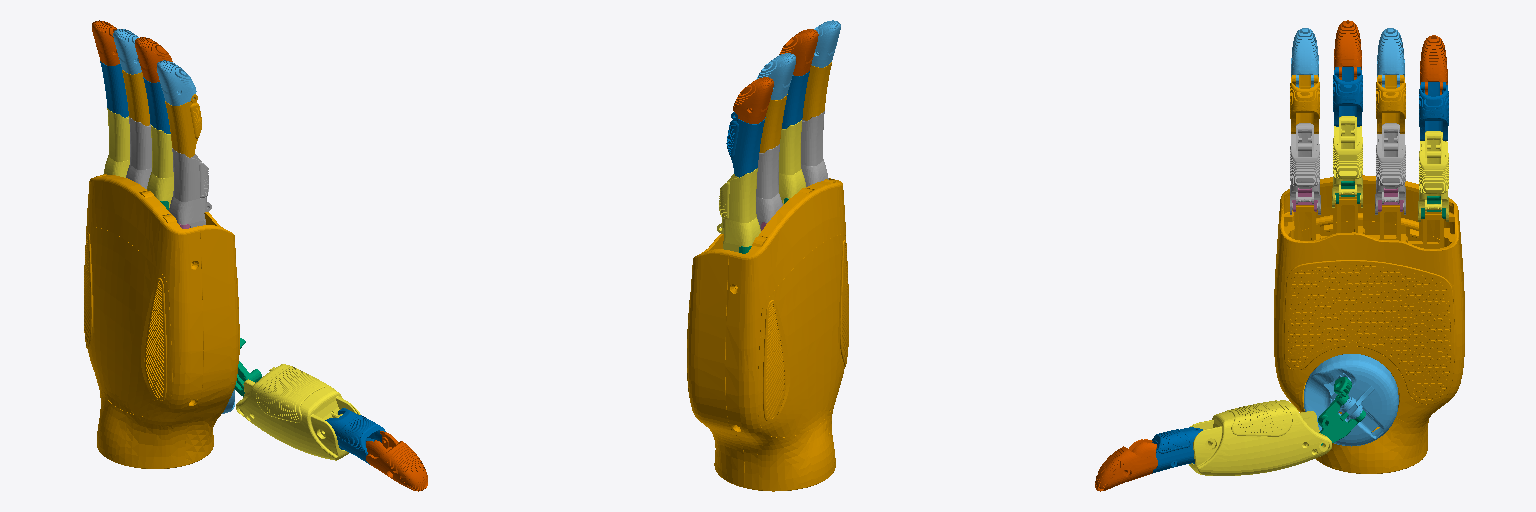
robot.urdf — hand:
<?xml version='1.0' encoding='utf-8'?>
<robot name="hand">
  <link name="lh_hand_base_link">
    <inertial>
      <origin xyz="-0.000986417037198788 0.000268049028294054 0.0773798470852122" rpy="0 0 0" />
      <mass value="0.110373495507463" />
      <inertia ixx="0.000264402778830212" ixy="4.59263483005334e-07" ixz="1.32798258678817e-06" iyy="0.000159680177760236" iyz="-4.78660406501498e-06" izz="0.000118075546031988" />
    </inertial>
    <visual>
      <origin xyz="0 0 0" rpy="0 0 0" />
      <geometry><mesh filename="meshes/visual/lh_hand_base_link_vis.obj" /></geometry>
    </visual>
    <collision>
      <origin xyz="0 0 0" rpy="0 0 0" />
      <geometry><mesh filename="meshes/visual/lh_hand_base_link_vis.obj" /></geometry>
    </collision>
  </link>
  <link name="lh_thumb_metacarpals_base1">
    <inertial>
      <origin xyz="0.0115155126192006 0.00398068846976699 0.000272888250745694" rpy="0 0 0" />
      <mass value="0.0160351802817401" />
      <inertia ixx="4.043875385429e-06" ixy="1.31113365770736e-07" ixz="-7.54220071752833e-09" iyy="2.42762975209742e-06" iyz="-1.4815076502312e-07" izz="2.08582778122043e-06" />
    </inertial>
    <visual>
      <origin xyz="0 0 0" rpy="0 0 0" />
      <geometry><mesh filename="meshes/visual/lh_thumb_metacarpals_base1_vis.obj" /></geometry>
    </visual>
    <collision>
      <origin xyz="0 0 0" rpy="0 0 0" />
      <geometry><mesh filename="meshes/visual/lh_thumb_metacarpals_base1_vis.obj" /></geometry>
    </collision>
  </link>
  <link name="lh_thumb_metacarpals_base2">
    <inertial>
      <origin xyz="0.00286714610220221 -0.0061572653424441 0.00472605265322379" rpy="0 0 0" />
      <mass value="0.00183264554882498" />
      <inertia ixx="2.1115156606816047e-07" ixy="-4.9133152227129e-08" ixz="-1.35746007921721e-08" iyy="9.889251334189997e-08" iyz="4.75450167610941e-08" izz="1.8061586053999446e-07" />
    </inertial>
    <visual>
      <origin xyz="0 0 0" rpy="0 0 0" />
      <geometry><mesh filename="meshes/visual/lh_thumb_metacarpals_base2_vis.obj" /></geometry>
    </visual>
    <collision>
      <origin xyz="0 0 0" rpy="0 0 0" />
      <geometry><mesh filename="meshes/visual/lh_thumb_metacarpals_base2_vis.obj" /></geometry>
    </collision>
  </link>
  <link name="lh_thumb_metacarpals">
    <inertial>
      <origin xyz="0.00670657874489922 8.60758971228653e-05 0.0331412930049483" rpy="0 0 0" />
      <mass value="0.0287160359417969" />
      <inertia ixx="1.13355944686632e-05" ixy="-1.18725063259997e-08" ixz="5.09011416528365e-08" iyy="1.3528651001113e-05" iyz="2.41236037965108e-08" izz="3.37809997040935e-06" />
    </inertial>
    <visual>
      <origin xyz="0 0 0" rpy="0 0 0" />
      <geometry><mesh filename="meshes/visual/lh_thumb_metacarpals_vis.obj" /></geometry>
    </visual>
    <collision>
      <origin xyz="0 0 0" rpy="0 0 0" />
      <geometry><mesh filename="meshes/visual/lh_thumb_metacarpals_vis.obj" /></geometry>
    </collision>
  </link>
  <link name="lh_thumb_proximal">
    <inertial>
      <origin xyz="-0.00268734410969529 0.000568244522388137 0.0118501723044777" rpy="0 0 0" />
      <mass value="0.00549015507433734" />
      <inertia ixx="4.78372237673962e-07" ixy="4.56375652569348e-11" ixz="5.41461160604729e-08" iyy="6.23208954846975e-07" iyz="5.1129105291147e-09" izz="2.34934736039565e-07" />
    </inertial>
    <visual>
      <origin xyz="0 0 0" rpy="0 0 0" />
      <geometry><mesh filename="meshes/visual/lh_thumb_proximal_vis.obj" /></geometry>
    </visual>
    <collision>
      <origin xyz="0 0 0" rpy="0 0 0" />
      <geometry><mesh filename="meshes/visual/lh_thumb_proximal_vis.obj" /></geometry>
    </collision>
  </link>
  <link name="lh_thumb_distal">
    <inertial>
      <origin xyz="-0.000710021799050622 -0.00267575921172081 0.0124762660846746" rpy="0 0 0" />
      <mass value="0.00382046638843239" />
      <inertia ixx="2.12120816159448e-07" ixy="-2.9588372102787e-09" ixz="-7.35950751454791e-08" iyy="2.67878295781821e-07" iyz="6.04616706384983e-09" izz="1.24571609570411e-07" />
    </inertial>
    <visual>
      <origin xyz="0 0 0" rpy="0 0 0" />
      <geometry><mesh filename="meshes/visual/lh_thumb_distal_vis.obj" /></geometry>
    </visual>
    <collision>
      <origin xyz="0 0 0" rpy="0 0 0" />
      <geometry><mesh filename="meshes/visual/lh_thumb_distal_vis.obj" /></geometry>
    </collision>
  </link>
  <link name="lh_index_metacarpals">
    <inertial>
      <origin xyz="-0.00794299653637993 -2.93673969475883e-07 0.00220106027330236" rpy="0 0 0" />
      <mass value="0.000895516429792169" />
      <inertia ixx="3.46279728013563e-08" ixy="-3.91962517308058e-13" ixz="5.91029152662012e-09" iyy="2.85435471088518e-08" iyz="-5.30377507775974e-13" izz="4.38102133125935e-08" />
    </inertial>
    <visual>
      <origin xyz="0 0 0" rpy="0 0 0" />
      <geometry><mesh filename="meshes/visual/lh_index_metacarpals_vis.obj" /></geometry>
    </visual>
    <collision>
      <origin xyz="0 0 0" rpy="0 0 0" />
      <geometry><mesh filename="meshes/visual/lh_index_metacarpals_vis.obj" /></geometry>
    </collision>
  </link>
  <link name="lh_index_proximal">
    <inertial>
      <origin xyz="-0.00114185484694667 3.47315751996757e-05 0.0228928405204552" rpy="0 0 0" />
      <mass value="0.00450921353606138" />
      <inertia ixx="6.66673080974796e-07" ixy="-1.07185172336921e-11" ixz="-2.53143396223457e-08" iyy="6.74195867168963e-07" iyz="-1.59054321114837e-10" izz="1.3575909170439e-07" />
    </inertial>
    <visual>
      <origin xyz="0 0 0" rpy="0 0 0" />
      <geometry><mesh filename="meshes/visual/lh_index_proximal_vis.obj" /></geometry>
    </visual>
    <collision>
      <origin xyz="0 0 0" rpy="0 0 0" />
      <geometry><mesh filename="meshes/visual/lh_index_proximal_vis.obj" /></geometry>
    </collision>
  </link>
  <link name="lh_index_middle">
    <inertial>
      <origin xyz="-0.000206991936024691 2.60617060293677e-06 0.0167065328961797" rpy="0 0 0" />
      <mass value="0.00237827499847615" />
      <inertia ixx="2.2953872847051e-07" ixy="2.23609392315326e-12" ixz="-1.4734008024399e-08" iyy="1.76761332719485e-07" iyz="1.15917246584962e-11" izz="9.62798051827835e-08" />
    </inertial>
    <visual>
      <origin xyz="0 0 0" rpy="0 0 0" />
      <geometry><mesh filename="meshes/visual/lh_index_middle_vis.obj" /></geometry>
    </visual>
    <collision>
      <origin xyz="0 0 0" rpy="0 0 0" />
      <geometry><mesh filename="meshes/visual/lh_index_middle_vis.obj" /></geometry>
    </collision>
  </link>
  <link name="lh_index_distal">
    <inertial>
      <origin xyz="-0.00816246517948334 2.27058913663258e-05 0.00811806505013066" rpy="0 0 0" />
      <mass value="0.00334170259772608" />
      <inertia ixx="1.59570744991572e-07" ixy="1.51458653099843e-10" ixz="-5.9429168549018e-08" iyy="1.78095631426193e-07" iyz="-1.24842727205631e-10" izz="1.34141383450165e-07" />
    </inertial>
    <visual>
      <origin xyz="0 0 0" rpy="0 0 0" />
      <geometry><mesh filename="meshes/visual/lh_index_distal_vis.obj" /></geometry>
    </visual>
    <collision>
      <origin xyz="0 0 0" rpy="0 0 0" />
      <geometry><mesh filename="meshes/visual/lh_index_distal_vis.obj" /></geometry>
    </collision>
  </link>
  <link name="lh_middle_metacarpals">
    <inertial>
      <origin xyz="-0.00794299618184406 -2.93006659768391e-07 0.00220106329585604" rpy="0 0 0" />
      <mass value="0.000895516947435045" />
      <inertia ixx="3.46279958583857e-08" ixy="-3.91785866285381e-13" ixz="5.91029262290692e-09" iyy="2.85435605322585e-08" iyz="-5.27457529869591e-13" izz="4.38102218629515e-08" />
    </inertial>
    <visual>
      <origin xyz="0 0 0" rpy="0 0 0" />
      <geometry><mesh filename="meshes/visual/lh_middle_metacarpals_vis.obj" /></geometry>
    </visual>
    <collision>
      <origin xyz="0 0 0" rpy="0 0 0" />
      <geometry><mesh filename="meshes/visual/lh_middle_metacarpals_vis.obj" /></geometry>
    </collision>
  </link>
  <link name="lh_middle_proximal">
    <inertial>
      <origin xyz="-0.00114185484818909 3.47315748623067e-05 0.0228928405191574" rpy="0 0 0" />
      <mass value="0.00450921353536659" />
      <inertia ixx="6.6667308094129e-07" ixy="-1.07185191777588e-11" ixz="-2.53143396278864e-08" iyy="6.74195867139795e-07" iyz="-1.59054330697635e-10" izz="1.3575909169764e-07" />
    </inertial>
    <visual>
      <origin xyz="0 0 0" rpy="0 0 0" />
      <geometry><mesh filename="meshes/visual/lh_middle_proximal_vis.obj" /></geometry>
    </visual>
    <collision>
      <origin xyz="0 0 0" rpy="0 0 0" />
      <geometry><mesh filename="meshes/visual/lh_middle_proximal_vis.obj" /></geometry>
    </collision>
  </link>
  <link name="lh_middle_middle">
    <inertial>
      <origin xyz="-0.000206991893084203 2.60624978909441e-06 0.0167065331356697" rpy="0 0 0" />
      <mass value="0.00237827502274046" />
      <inertia ixx="2.29538732170979e-07" ixy="2.23722006830829e-12" ixz="-1.47340061868536e-08" iyy="1.7676133625496e-07" iyz="1.15938574397121e-11" izz="9.62798057458164e-08" />
    </inertial>
    <visual>
      <origin xyz="0 0 0" rpy="0 0 0" />
      <geometry><mesh filename="meshes/visual/lh_middle_middle_vis.obj" /></geometry>
    </visual>
    <collision>
      <origin xyz="0 0 0" rpy="0 0 0" />
      <geometry><mesh filename="meshes/visual/lh_middle_middle_vis.obj" /></geometry>
    </collision>
  </link>
  <link name="lh_middle_distal">
    <inertial>
      <origin xyz="-0.00816246584707385 2.27058557035753e-05 0.00811806604834034" rpy="0 0 0" />
      <mass value="0.00334170288968694" />
      <inertia ixx="1.59570753478215e-07" ixy="1.51460233550071e-10" ixz="-5.94291827952622e-08" iyy="1.78095663702073e-07" iyz="-1.24843061161549e-10" izz="1.34141410190336e-07" />
    </inertial>
    <visual>
      <origin xyz="0 0 0" rpy="0 0 0" />
      <geometry><mesh filename="meshes/visual/lh_middle_distal_vis.obj" /></geometry>
    </visual>
    <collision>
      <origin xyz="0 0 0" rpy="0 0 0" />
      <geometry><mesh filename="meshes/visual/lh_middle_distal_vis.obj" /></geometry>
    </collision>
  </link>
  <link name="lh_ring_metacarpals">
    <inertial>
      <origin xyz="-0.00794299637971868 -2.94513098575422e-07 0.00220106138372037" rpy="0 0 0" />
      <mass value="0.000895516612684195" />
      <inertia ixx="3.46279813761428e-08" ixy="-3.92590701616938e-13" ixz="5.91029201975386e-09" iyy="2.854355219638e-08" iyz="-5.34642787239736e-13" izz="4.38102164225122e-08" />
    </inertial>
    <visual>
      <origin xyz="0 0 0" rpy="0 0 0" />
      <geometry><mesh filename="meshes/visual/lh_ring_metacarpals_vis.obj" /></geometry>
    </visual>
    <collision>
      <origin xyz="0 0 0" rpy="0 0 0" />
      <geometry><mesh filename="meshes/visual/lh_ring_metacarpals_vis.obj" /></geometry>
    </collision>
  </link>
  <link name="lh_ring_proximal">
    <inertial>
      <origin xyz="-0.00114185484356009 3.47315809493265e-05 0.0228928405060199" rpy="0 0 0" />
      <mass value="0.00450921353946778" />
      <inertia ixx="6.66673081759646e-07" ixy="-1.07184694208142e-11" ixz="-2.53143399406658e-08" iyy="6.74195868060947e-07" iyz="-1.59054446512071e-10" izz="1.3575909184966e-07" />
    </inertial>
    <visual>
      <origin xyz="0 0 0" rpy="0 0 0" />
      <geometry><mesh filename="meshes/visual/lh_ring_proximal_vis.obj" /></geometry>
    </visual>
    <collision>
      <origin xyz="0 0 0" rpy="0 0 0" />
      <geometry><mesh filename="meshes/visual/lh_ring_proximal_vis.obj" /></geometry>
    </collision>
  </link>
  <link name="lh_ring_middle">
    <inertial>
      <origin xyz="-0.00020699321531438 2.60746916563859e-06 0.0167065326651803" rpy="0 0 0" />
      <mass value="0.00237827433282015" />
      <inertia ixx="2.29538714144179e-07" ixy="2.25259718797087e-12" ixz="-1.47340121880382e-08" iyy="1.76761312824203e-07" iyz="1.15994674932479e-11" izz="9.62797743780677e-08" />
    </inertial>
    <visual>
      <origin xyz="0 0 0" rpy="0 0 0" />
      <geometry><mesh filename="meshes/visual/lh_ring_middle_vis.obj" /></geometry>
    </visual>
    <collision>
      <origin xyz="0 0 0" rpy="0 0 0" />
      <geometry><mesh filename="meshes/visual/lh_ring_middle_vis.obj" /></geometry>
    </collision>
  </link>
  <link name="lh_ring_distal">
    <inertial>
      <origin xyz="-0.0081624655153107 2.27057324615476e-05 0.00811806561376854" rpy="0 0 0" />
      <mass value="0.00334170280386792" />
      <inertia ixx="1.59570757957895e-07" ixy="1.51461030930522e-10" ixz="-5.94291750853635e-08" iyy="1.78095650648522e-07" iyz="-1.2484716714453e-10" izz="1.34141394018405e-07" />
    </inertial>
    <visual>
      <origin xyz="0 0 0" rpy="0 0 0" />
      <geometry><mesh filename="meshes/visual/lh_ring_distal_vis.obj" /></geometry>
    </visual>
    <collision>
      <origin xyz="0 0 0" rpy="0 0 0" />
      <geometry><mesh filename="meshes/visual/lh_ring_distal_vis.obj" /></geometry>
    </collision>
  </link>
  <link name="lh_pinky_metacarpals">
    <inertial>
      <origin xyz="-0.00794299617469867 -2.9300686296696e-07 0.00220106329602079" rpy="0 0 0" />
      <mass value="0.000895516947513541" />
      <inertia ixx="3.46279958591138e-08" ixy="-3.91785473098584e-13" ixz="5.91029262259818e-09" iyy="2.85435605328821e-08" iyz="-5.27457876763101e-13" izz="4.38102218637476e-08" />
    </inertial>
    <visual>
      <origin xyz="0 0 0" rpy="0 0 0" />
      <geometry><mesh filename="meshes/visual/lh_pinky_metacarpals_vis.obj" /></geometry>
    </visual>
    <collision>
      <origin xyz="0 0 0" rpy="0 0 0" />
      <geometry><mesh filename="meshes/visual/lh_pinky_metacarpals_vis.obj" /></geometry>
    </collision>
  </link>
  <link name="lh_pinky_proximal">
    <inertial>
      <origin xyz="-0.00114185484350746 3.47315809787474e-05 0.0228928405060759" rpy="0 0 0" />
      <mass value="0.00450921353949741" />
      <inertia ixx="6.66673081761478e-07" ixy="-1.07184692555283e-11" ixz="-2.53143399404374e-08" iyy="6.74195868062215e-07" iyz="-1.59054445649156e-10" izz="1.35759091850319e-07" />
    </inertial>
    <visual>
      <origin xyz="0 0 0" rpy="0 0 0" />
      <geometry><mesh filename="meshes/visual/lh_pinky_proximal_vis.obj" /></geometry>
    </visual>
    <collision>
      <origin xyz="0 0 0" rpy="0 0 0" />
      <geometry><mesh filename="meshes/visual/lh_pinky_proximal_vis.obj" /></geometry>
    </collision>
  </link>
  <link name="lh_pinky_middle">
    <inertial>
      <origin xyz="-0.000206993248553502 2.60748984004522e-06 0.0167065326828462" rpy="0 0 0" />
      <mass value="0.00237827431921004" />
      <inertia ixx="2.29538713829186e-07" ixy="2.25292379523651e-12" ixz="-1.47340119230773e-08" iyy="1.76761312133621e-07" iyz="1.15993142153177e-11" izz="9.62797736254209e-08" />
    </inertial>
    <visual>
      <origin xyz="0 0 0" rpy="0 0 0" />
      <geometry><mesh filename="meshes/visual/lh_pinky_middle_vis.obj" /></geometry>
    </visual>
    <collision>
      <origin xyz="0 0 0" rpy="0 0 0" />
      <geometry><mesh filename="meshes/visual/lh_pinky_middle_vis.obj" /></geometry>
    </collision>
  </link>
  <link name="lh_pinky_distal">
    <inertial>
      <origin xyz="-0.00816246615274486 2.27054189396725e-05 0.00811806634481432" rpy="0 0 0" />
      <mass value="0.00334170283969146" />
      <inertia ixx="1.59570758932551e-07" ixy="1.51458416419677e-10" ixz="-5.94291815262966e-08" iyy="1.7809566305509e-07" iyz="-1.24846982879422e-10" izz="1.34141398854287e-07" />
    </inertial>
    <visual>
      <origin xyz="0 0 0" rpy="0 0 0" />
      <geometry><mesh filename="meshes/visual/lh_pinky_distal_vis.obj" /></geometry>
    </visual>
    <collision>
      <origin xyz="0 0 0" rpy="0 0 0" />
      <geometry><mesh filename="meshes/visual/lh_pinky_distal_vis.obj" /></geometry>
    </collision>
  </link>
  <joint name="lh_thumb_cmc_roll" type="revolute">
    <origin xyz="0.01916 -0.01 0.0436" rpy="0 0 0" />
    <parent link="lh_hand_base_link" />
    <child link="lh_thumb_metacarpals_base1" />
    <axis xyz="-1 0 0" />
    <limit lower="0" upper="1.309" effort="100" velocity="1" />
  </joint>
  <joint name="lh_thumb_cmc_yaw" type="revolute">
    <origin xyz="0.019845 0 0" rpy="0.77165 0 0" />
    <parent link="lh_thumb_metacarpals_base1" />
    <child link="lh_thumb_metacarpals_base2" />
    <axis xyz="0 0 1" />
    <limit lower="0" upper="1.5882" effort="100" velocity="1" />
  </joint>
  <joint name="lh_thumb_cmc_pitch" type="revolute">
    <origin xyz="0.0088218 -0.024245 0.0005" rpy="0 -0.91 1.9199" />
    <parent link="lh_thumb_metacarpals_base2" />
    <child link="lh_thumb_metacarpals" />
    <axis xyz="0 1 0" />
    <limit lower="0" upper="0.7854" effort="100" velocity="1" />
  </joint>
  <joint name="lh_thumb_mcp" type="revolute">
    <origin xyz="0.0127018248047608 0 0.0627256157349894" rpy="0 0 0" />
    <parent link="lh_thumb_metacarpals" />
    <child link="lh_thumb_proximal" />
    <axis xyz="0 1 0" />
    <limit lower="0" upper="1.2217" effort="100" velocity="1" />
  </joint>
  <joint name="lh_thumb_dip" type="revolute">
    <origin xyz="-0.00483652209209624 0 0.0342226492098615" rpy="0 0 0" />
    <parent link="lh_thumb_proximal" />
    <child link="lh_thumb_distal" />
    <axis xyz="0 1 0" />
    <limit lower="0" upper="1.2392" effort="100" velocity="1" />
    <mimic joint="lh_thumb_mcp" multiplier="1.0142" offset="0" />
  </joint>
  <joint name="lh_index_mcp_roll" type="revolute">
    <origin xyz="0.0038 -0.03525 0.1481" rpy="0 0 0" />
    <parent link="lh_hand_base_link" />
    <child link="lh_index_metacarpals" />
    <axis xyz="-1 0 0" />
    <limit lower="-0.2269" upper="0.2269" effort="100" velocity="1" />
  </joint>
  <joint name="lh_index_mcp_pitch" type="revolute">
    <origin xyz="-0.0021302 0 0" rpy="0 0 0" />
    <parent link="lh_index_metacarpals" />
    <child link="lh_index_proximal" />
    <axis xyz="0 1 0" />
    <limit lower="0" upper="1.2217" effort="100" velocity="1" />
  </joint>
  <joint name="lh_index_pip" type="revolute">
    <origin xyz="-0.0041946 0 0.044819" rpy="0 0 0" />
    <parent link="lh_index_proximal" />
    <child link="lh_index_middle" />
    <axis xyz="0 1 0" />
    <limit lower="0" upper="1.7279" effort="100" velocity="1" />
  </joint>
  <joint name="lh_index_dip" type="revolute">
    <origin xyz="0.0028245 0 0.031696" rpy="0 0 0" />
    <parent link="lh_index_middle" />
    <child link="lh_index_distal" />
    <axis xyz="0 1 0" />
    <limit lower="0" upper="1.3614" effort="100" velocity="1" />
    <mimic joint="lh_index_pip" multiplier="0.7879" offset="0" />
  </joint>
  <joint name="lh_middle_mcp_roll" type="revolute">
    <origin xyz="0.00379999999265848 -0.0117500000029305 0.1526" rpy="0 0 0" />
    <parent link="lh_hand_base_link" />
    <child link="lh_middle_metacarpals" />
    <axis xyz="-1 0 0" />
    <limit lower="-0.23" upper="0.23" effort="100" velocity="1" />
  </joint>
  <joint name="lh_middle_mcp_pitch" type="revolute">
    <origin xyz="-0.0021302 0 0" rpy="0 0 0" />
    <parent link="lh_middle_metacarpals" />
    <child link="lh_middle_proximal" />
    <axis xyz="0 1 0" />
    <limit lower="0" upper="1.2217" effort="100" velocity="1" />
  </joint>
  <joint name="lh_middle_pip" type="revolute">
    <origin xyz="-0.00419457745591796 0 0.0448194332262389" rpy="0 0 0" />
    <parent link="lh_middle_proximal" />
    <child link="lh_middle_middle" />
    <axis xyz="0 1 0" />
    <limit lower="0" upper="1.7279" effort="100" velocity="1" />
  </joint>
  <joint name="lh_middle_dip" type="revolute">
    <origin xyz="0.0028245 0 0.031696" rpy="0 0 0" />
    <parent link="lh_middle_middle" />
    <child link="lh_middle_distal" />
    <axis xyz="0 1 0" />
    <limit lower="0" upper="1.3614" effort="100" velocity="1" />
    <mimic joint="lh_middle_pip" multiplier="0.7879" offset="0" />
  </joint>
  <joint name="lh_ring_mcp_roll" type="revolute">
    <origin xyz="0.00379999999632174 0.0117499999970695 0.1481" rpy="0 0 0" />
    <parent link="lh_hand_base_link" />
    <child link="lh_ring_metacarpals" />
    <axis xyz="-1 0 0" />
    <limit lower="-0.23" upper="0.23" effort="100" velocity="1" />
  </joint>
  <joint name="lh_ring_mcp_pitch" type="revolute">
    <origin xyz="-0.0021302 0 0" rpy="0 0 0" />
    <parent link="lh_ring_metacarpals" />
    <child link="lh_ring_proximal" />
    <axis xyz="0 1 0" />
    <limit lower="0" upper="1.2217" effort="100" velocity="1" />
  </joint>
  <joint name="lh_ring_pip" type="revolute">
    <origin xyz="-0.00419457745591796 0 0.0448194332262389" rpy="0 0 0" />
    <parent link="lh_ring_proximal" />
    <child link="lh_ring_middle" />
    <axis xyz="0 1 0" />
    <limit lower="0" upper="1.7279" effort="100" velocity="1" />
  </joint>
  <joint name="lh_ring_dip" type="revolute">
    <origin xyz="0.0028245 0 0.031696" rpy="0 0 0" />
    <parent link="lh_ring_middle" />
    <child link="lh_ring_distal" />
    <axis xyz="0 1 0" />
    <limit lower="0" upper="1.3614" effort="100" velocity="1" />
    <mimic joint="lh_ring_pip" multiplier="0.7879" offset="0" />
  </joint>
  <joint name="lh_pinky_mcp_roll" type="revolute">
    <origin xyz="0.00379999999998499 0.0352499999970695 0.1436" rpy="0 0 0" />
    <parent link="lh_hand_base_link" />
    <child link="lh_pinky_metacarpals" />
    <axis xyz="-1 0 0" />
    <limit lower="-0.23" upper="0.23" effort="100" velocity="1" />
  </joint>
  <joint name="lh_pinky_mcp_pitch" type="revolute">
    <origin xyz="-0.0021302 0 0" rpy="0 0 0" />
    <parent link="lh_pinky_metacarpals" />
    <child link="lh_pinky_proximal" />
    <axis xyz="0 1 0" />
    <limit lower="0" upper="1.2217" effort="100" velocity="1" />
  </joint>
  <joint name="lh_pinky_pip" type="revolute">
    <origin xyz="-0.0041946 0 0.044819" rpy="0 0 0" />
    <parent link="lh_pinky_proximal" />
    <child link="lh_pinky_middle" />
    <axis xyz="0 1 0" />
    <limit lower="0" upper="1.7279" effort="100" velocity="1" />
  </joint>
  <joint name="lh_pinky_dip" type="revolute">
    <origin xyz="0.0028245 0 0.031696" rpy="0 0 0" />
    <parent link="lh_pinky_middle" />
    <child link="lh_pinky_distal" />
    <axis xyz="0 1 0" />
    <limit lower="0" upper="1.3614" effort="100" velocity="1" />
    <mimic joint="lh_pinky_pip" multiplier="0.7879" offset="0" />
  </joint>
</robot>

--- Facts derived from the render (not from the file) ---
Views: 3 orthographic renders of the robot side by side, from view 1: azimuth 30°, elevation 25°; view 2: azimuth 150°, elevation 25°; view 3: azimuth 270°, elevation 25°.
Robot: hand — 22 links, 21 joints (21 revolute); root link lh_hand_base_link; default pose: every joint at zero.
Links seen in each view (by area): view 1: lh_hand_base_link, lh_thumb_metacarpals, lh_index_proximal, lh_thumb_distal, lh_thumb_proximal, lh_index_middle, lh_middle_proximal, lh_ring_proximal, lh_pinky_proximal, lh_index_distal, lh_pinky_middle, lh_ring_middle (+4 smaller); view 2: lh_hand_base_link, lh_pinky_proximal, lh_pinky_middle, lh_middle_proximal, lh_ring_proximal, lh_index_proximal, lh_pinky_distal, lh_index_middle, lh_ring_distal, lh_middle_distal, lh_index_distal, lh_ring_middle (+1 smaller); view 3: lh_hand_base_link, lh_thumb_metacarpals, lh_thumb_metacarpals_base1, lh_middle_proximal, lh_pinky_proximal, lh_index_proximal, lh_ring_proximal, lh_thumb_distal, lh_thumb_proximal, lh_middle_middle, lh_pinky_middle, lh_index_middle (+6 smaller).
Link boxes in pixels (x1=…): lh_hand_base_link: x1=84, y1=174, x2=239, y2=468; lh_thumb_metacarpals: x1=236, y1=364, x2=360, y2=460; lh_index_proximal: x1=168, y1=148, x2=211, y2=227; lh_thumb_distal: x1=366, y1=431, x2=427, y2=491; lh_thumb_proximal: x1=325, y1=408, x2=385, y2=464; lh_index_middle: x1=165, y1=94, x2=201, y2=157; lh_middle_proximal: x1=147, y1=125, x2=173, y2=207; lh_ring_proximal: x1=126, y1=117, x2=151, y2=188; lh_pinky_proximal: x1=103, y1=108, x2=129, y2=177; lh_index_distal: x1=157, y1=60, x2=196, y2=105; lh_pinky_middle: x1=100, y1=61, x2=128, y2=117; lh_ring_middle: x1=122, y1=70, x2=149, y2=125; lh_hand_base_link: x1=687, y1=178, x2=848, y2=491; lh_pinky_proximal: x1=717, y1=168, x2=760, y2=252; lh_pinky_middle: x1=726, y1=112, x2=765, y2=177; lh_middle_proximal: x1=779, y1=120, x2=805, y2=204; lh_ring_proximal: x1=756, y1=144, x2=782, y2=228; lh_index_proximal: x1=801, y1=111, x2=828, y2=186; lh_pinky_distal: x1=733, y1=77, x2=773, y2=123; lh_index_middle: x1=802, y1=62, x2=831, y2=120; lh_ring_distal: x1=756, y1=53, x2=795, y2=99; lh_middle_distal: x1=779, y1=29, x2=818, y2=75; lh_index_distal: x1=811, y1=20, x2=840, y2=67; lh_ring_middle: x1=759, y1=94, x2=787, y2=152; lh_hand_base_link: x1=1274, y1=175, x2=1464, y2=473; lh_thumb_metacarpals: x1=1189, y1=400, x2=1331, y2=475; lh_thumb_metacarpals_base1: x1=1304, y1=354, x2=1398, y2=446; lh_middle_proximal: x1=1332, y1=116, x2=1362, y2=207; lh_pinky_proximal: x1=1418, y1=131, x2=1448, y2=221; lh_index_proximal: x1=1290, y1=123, x2=1320, y2=214; lh_ring_proximal: x1=1375, y1=123, x2=1405, y2=214; lh_thumb_distal: x1=1095, y1=439, x2=1157, y2=491; lh_thumb_proximal: x1=1152, y1=427, x2=1202, y2=473; lh_middle_middle: x1=1333, y1=67, x2=1362, y2=126; lh_pinky_middle: x1=1419, y1=82, x2=1448, y2=140; lh_index_middle: x1=1290, y1=75, x2=1319, y2=133.
Bounding box of the posed robot: 0.1192 × 0.203 × 0.2521 m (x, y, z).
Meshes: 22 distinct files referenced, 22 mesh visuals loaded (22 OBJ).
